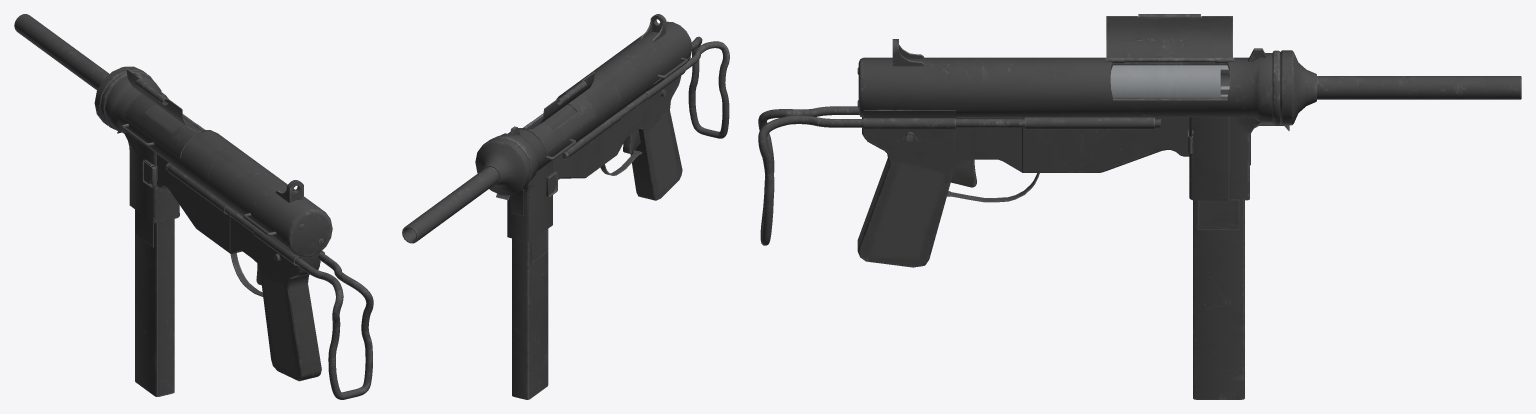
File: Grease_Gun.glb
The picture shows the model from 3 angles, left to right: view 1: azimuth 30°, elevation 25°; view 2: azimuth 150°, elevation 25°; view 3: azimuth 270°, elevation 25°; orthographic projection. The views are drawn at different scales.
Parts seen in each view (by area): view 1: Body; view 2: Body; view 3: Body.
Part boxes in pixels (left/top/right/bottom): Body: left=14, top=14, right=373, bottom=399; Body: left=402, top=14, right=729, bottom=399; Body: left=758, top=14, right=1521, bottom=399.
Bounding box in the file's own units: 0.0635 × 0.334 × 0.6271.
1 material, 1 textured.
